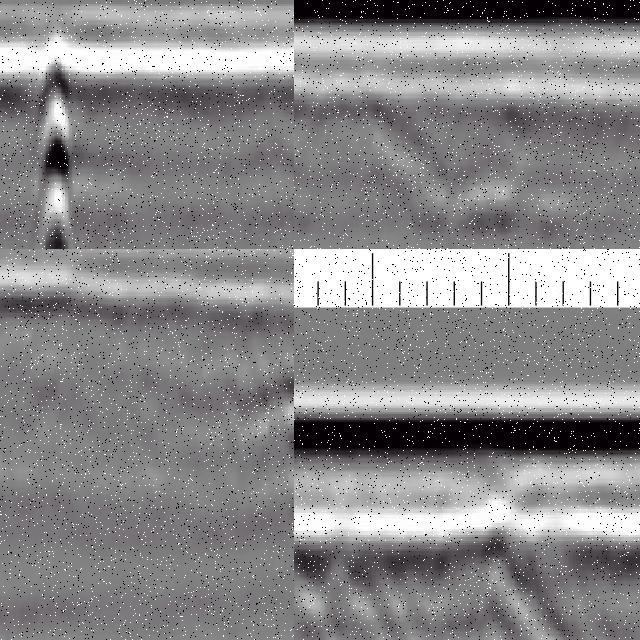crack: (36, 25, 73, 250)
loose: (295, 495, 578, 640), (222, 355, 295, 492)
